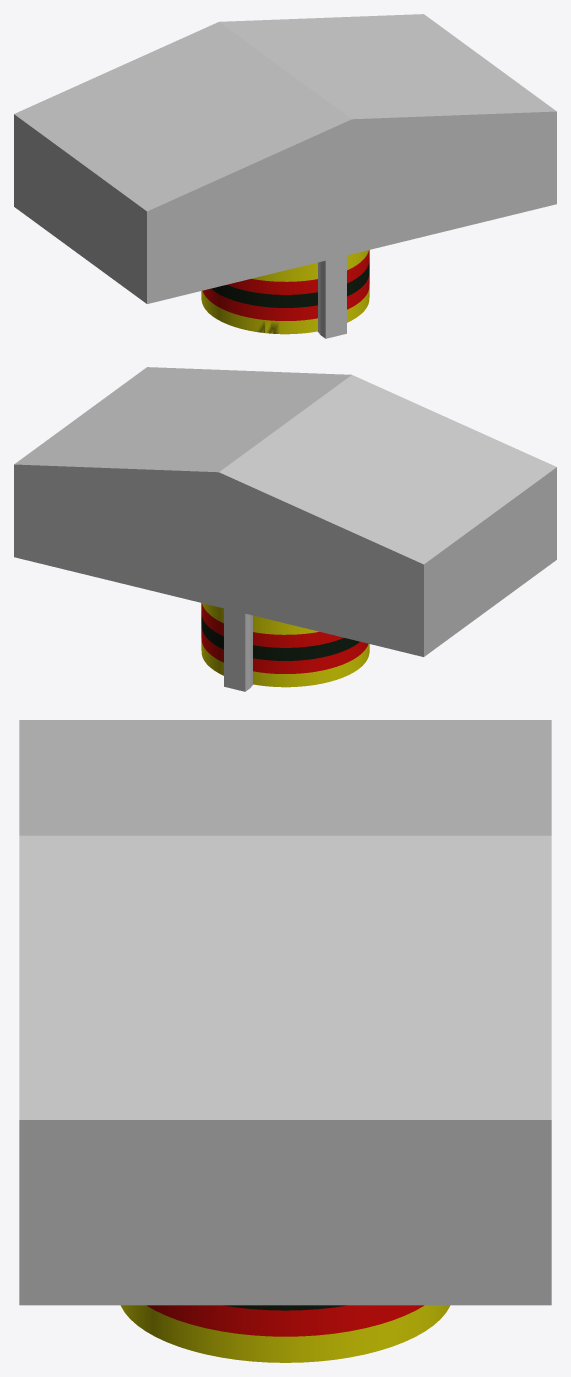
The model's file is Rope_Skipping.fbx.
The picture shows the model from 3 angles, top to bottom: view 1: azimuth 30°, elevation 25°; view 2: azimuth 150°, elevation 25°; view 3: azimuth 270°, elevation 25°; orthographic projection. The views are drawn at different scales.
Visible parts, largest first — view 1: Wall, Base; view 2: Wall, Base; view 3: Wall, Base.
Part boxes in pixels (x1,y1,x2,y2): Wall: [14, 14, 556, 303]; Base: [201, 250, 369, 338]; Wall: [14, 367, 556, 656]; Base: [201, 603, 369, 691]; Wall: [19, 720, 551, 1305]; Base: [120, 1305, 450, 1362].
Bounding box in the file's own units: 10064 × 5363 × 5661.
